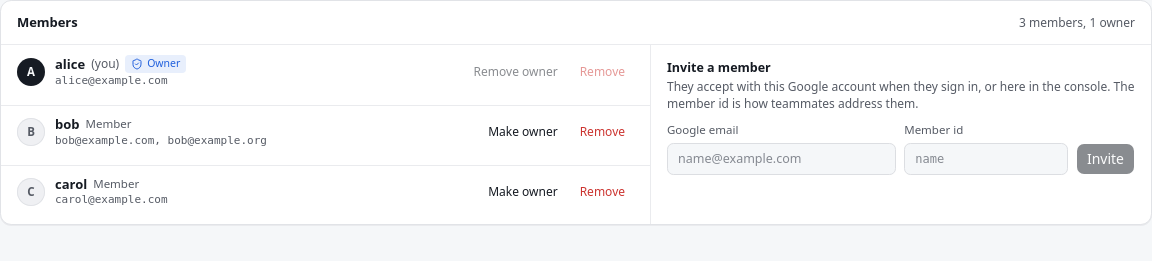
Test: Members panel: owner (M6 §4) › makes and unmakes owners, and shows a refusal on that row
The width and height of the screenshot is (1152, 261).
expect the text "carol@example.com" is shown: met, box [55, 193, 168, 206]
Click the button "Make owner" in the row of "bob@example.com, bob@example.org".
click(523, 132)  # box [479, 120, 567, 144]
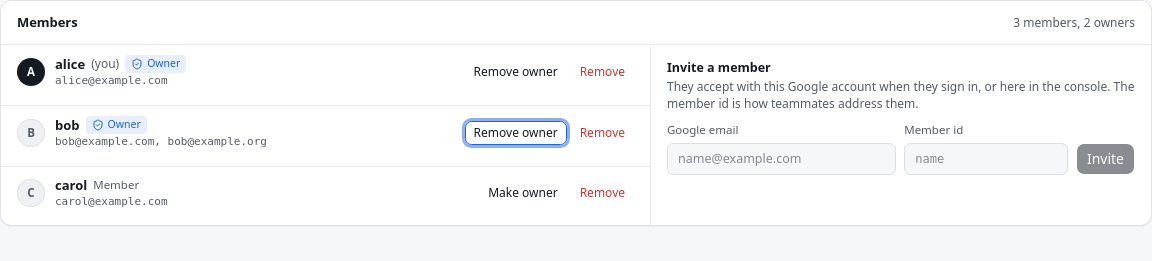
expect the 2nd text "Owner" is shown: met, box [86, 116, 147, 134]
expect the button "Remove owner" in the row of "alice@example.com" is enabled: met, box [465, 60, 567, 84]
Click the button "Make owner".
click(523, 193)  # box [479, 181, 567, 205]
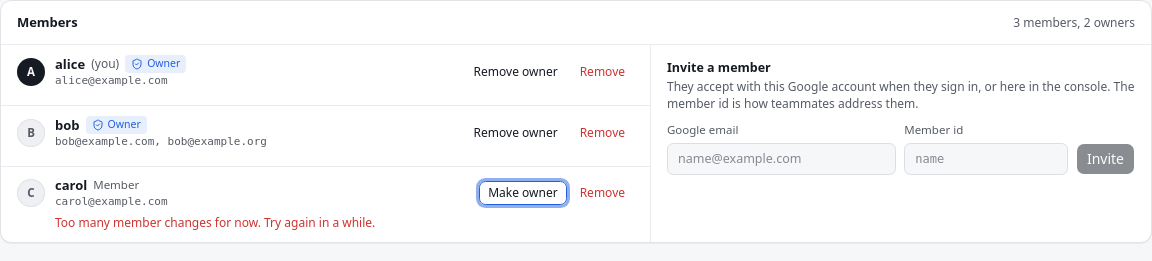
expect the message shows "Too many member changes for now.": met, box [55, 214, 375, 232]
